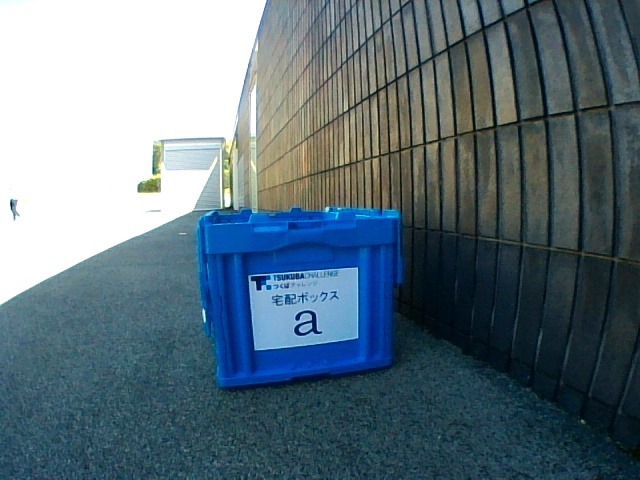blue_box: (197, 207, 401, 385)
tag_a: (260, 279, 352, 338)
